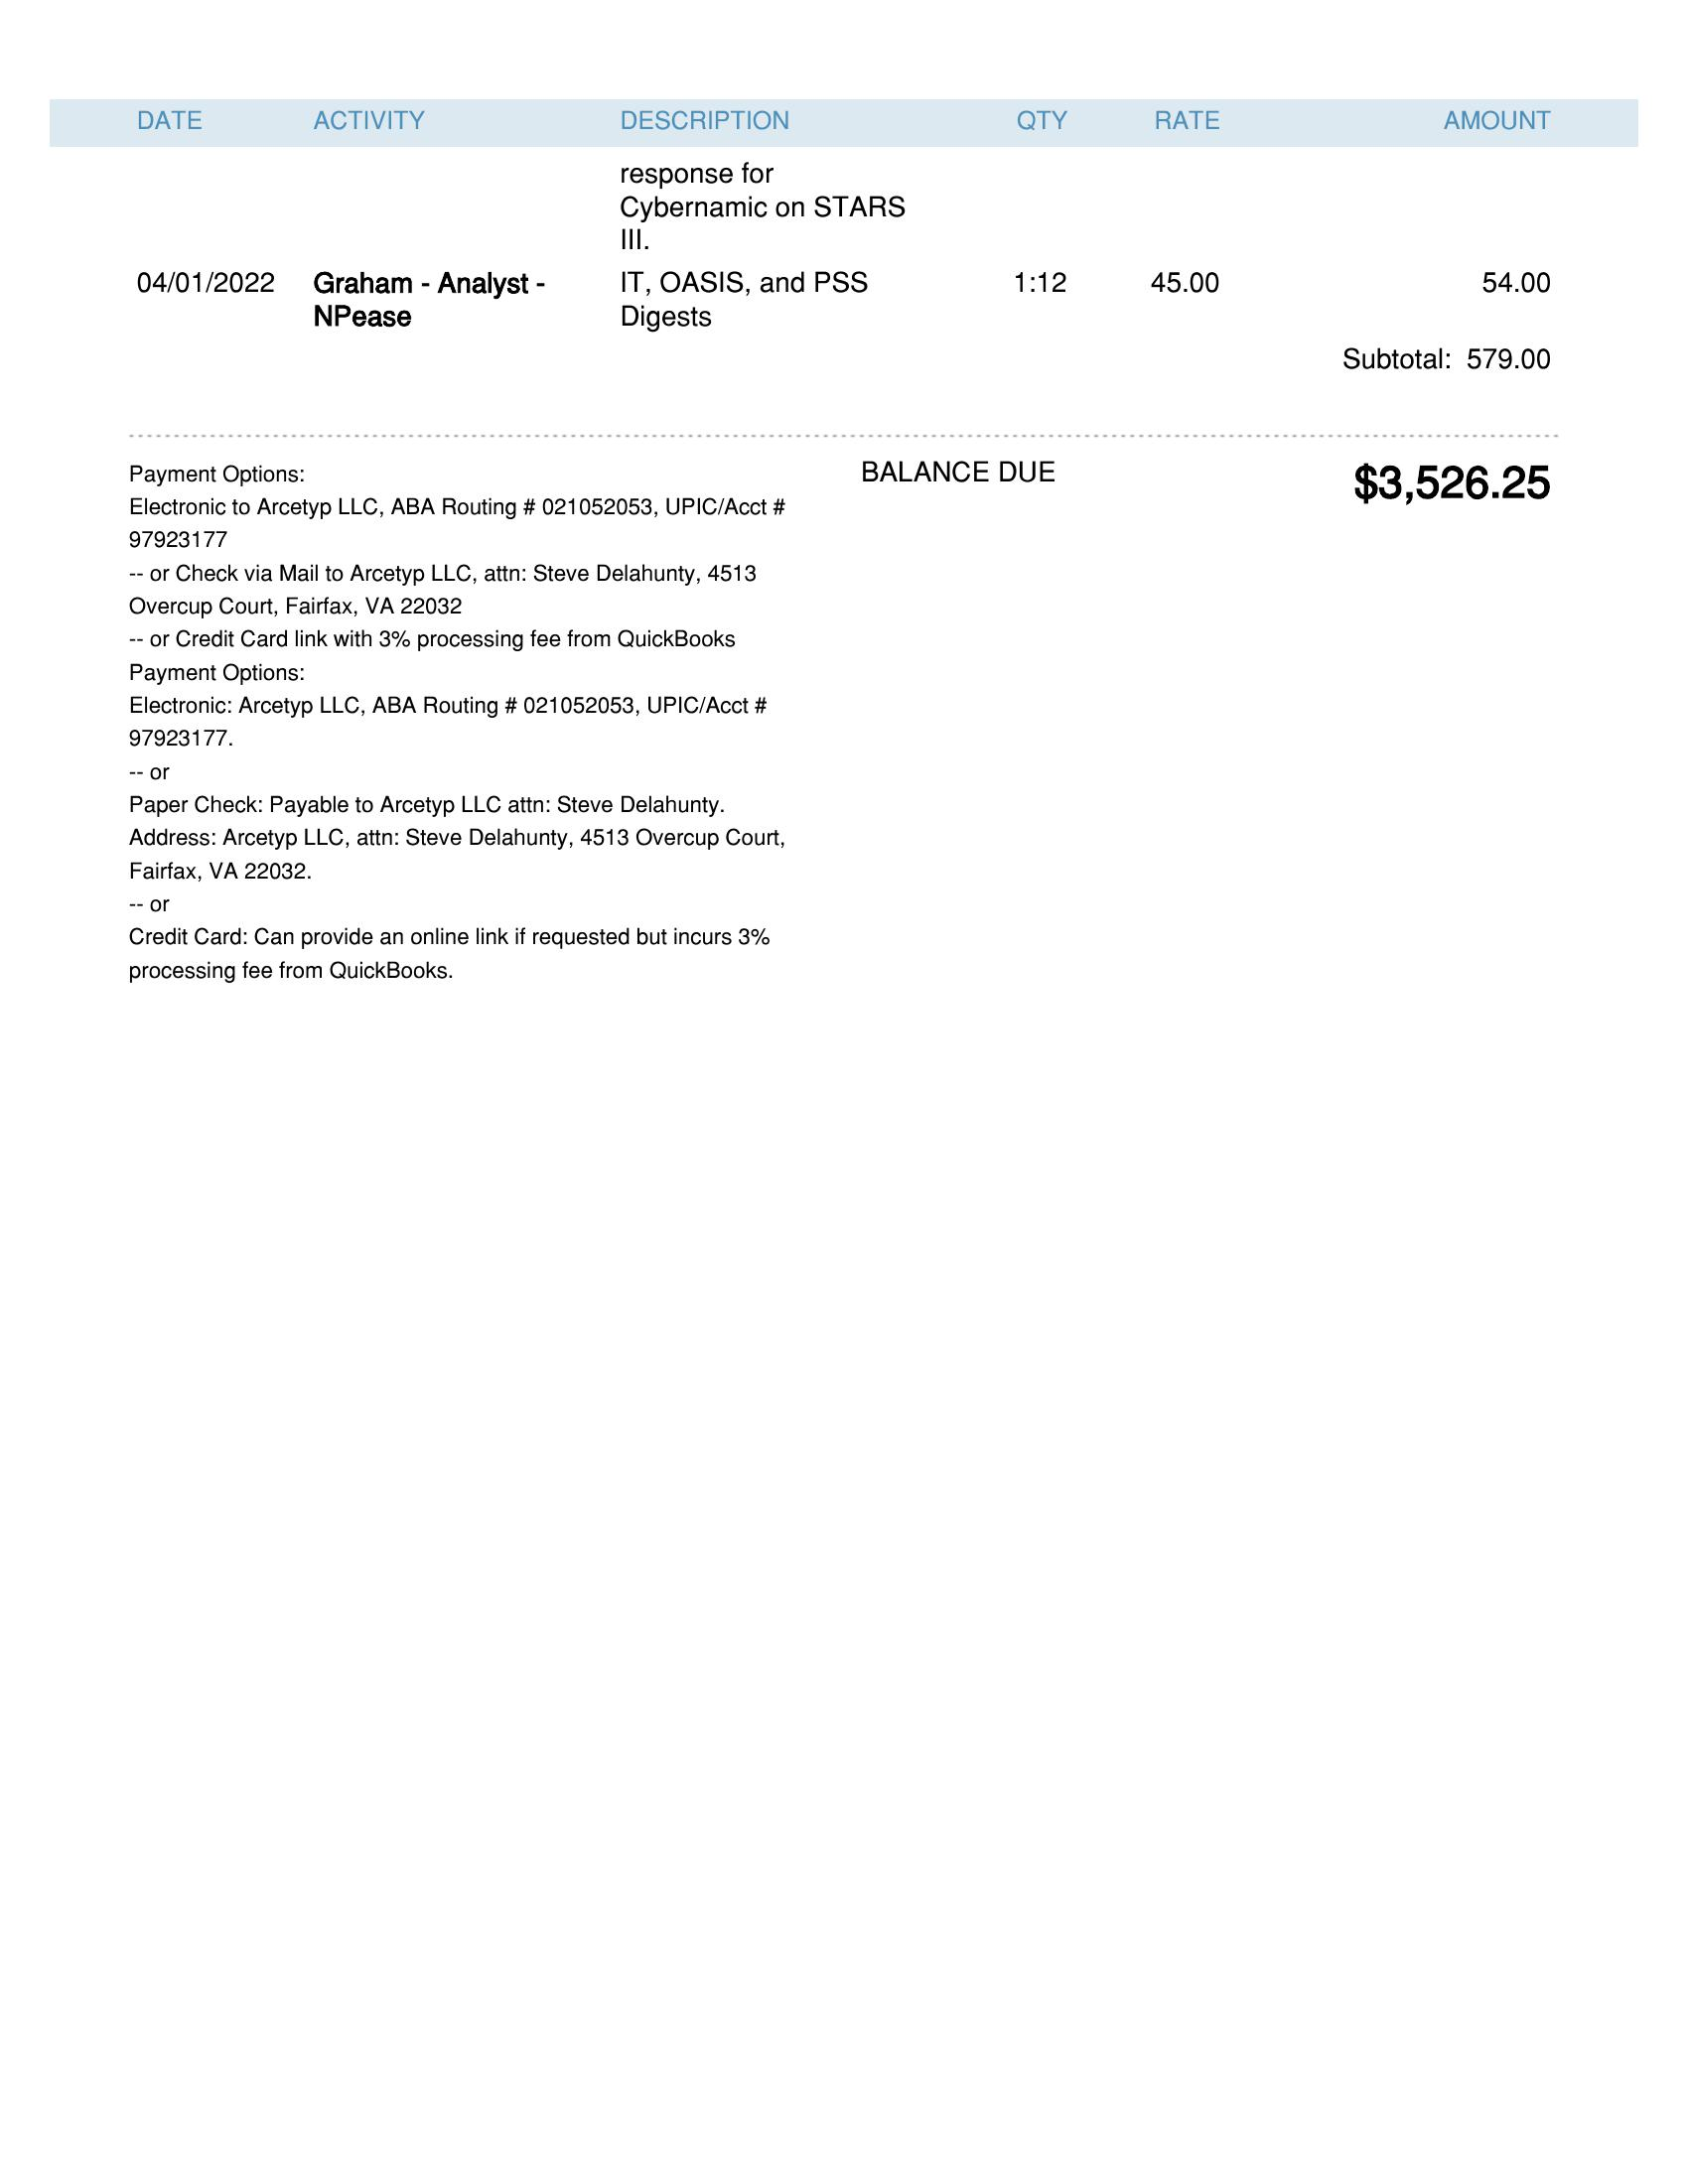table: (46, 82, 1651, 337)
